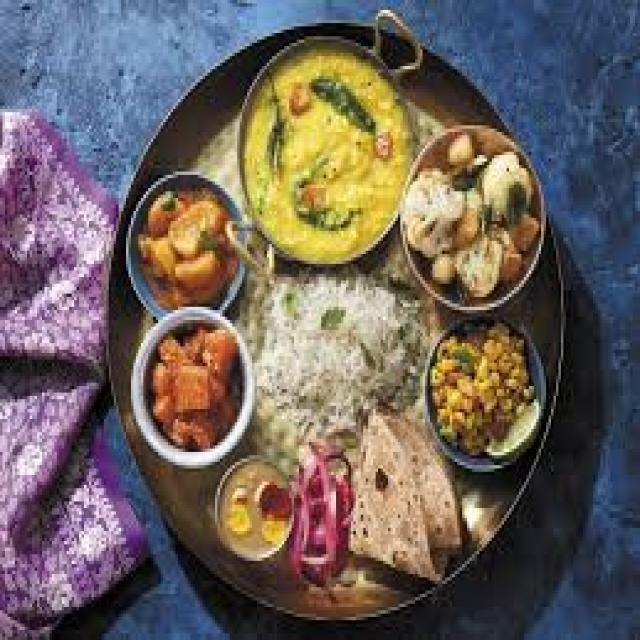dal: (235, 42, 409, 275)
pickle: (139, 313, 252, 456)
rice: (248, 246, 420, 466)
roti: (342, 422, 455, 576)
sweet: (137, 316, 246, 455)
